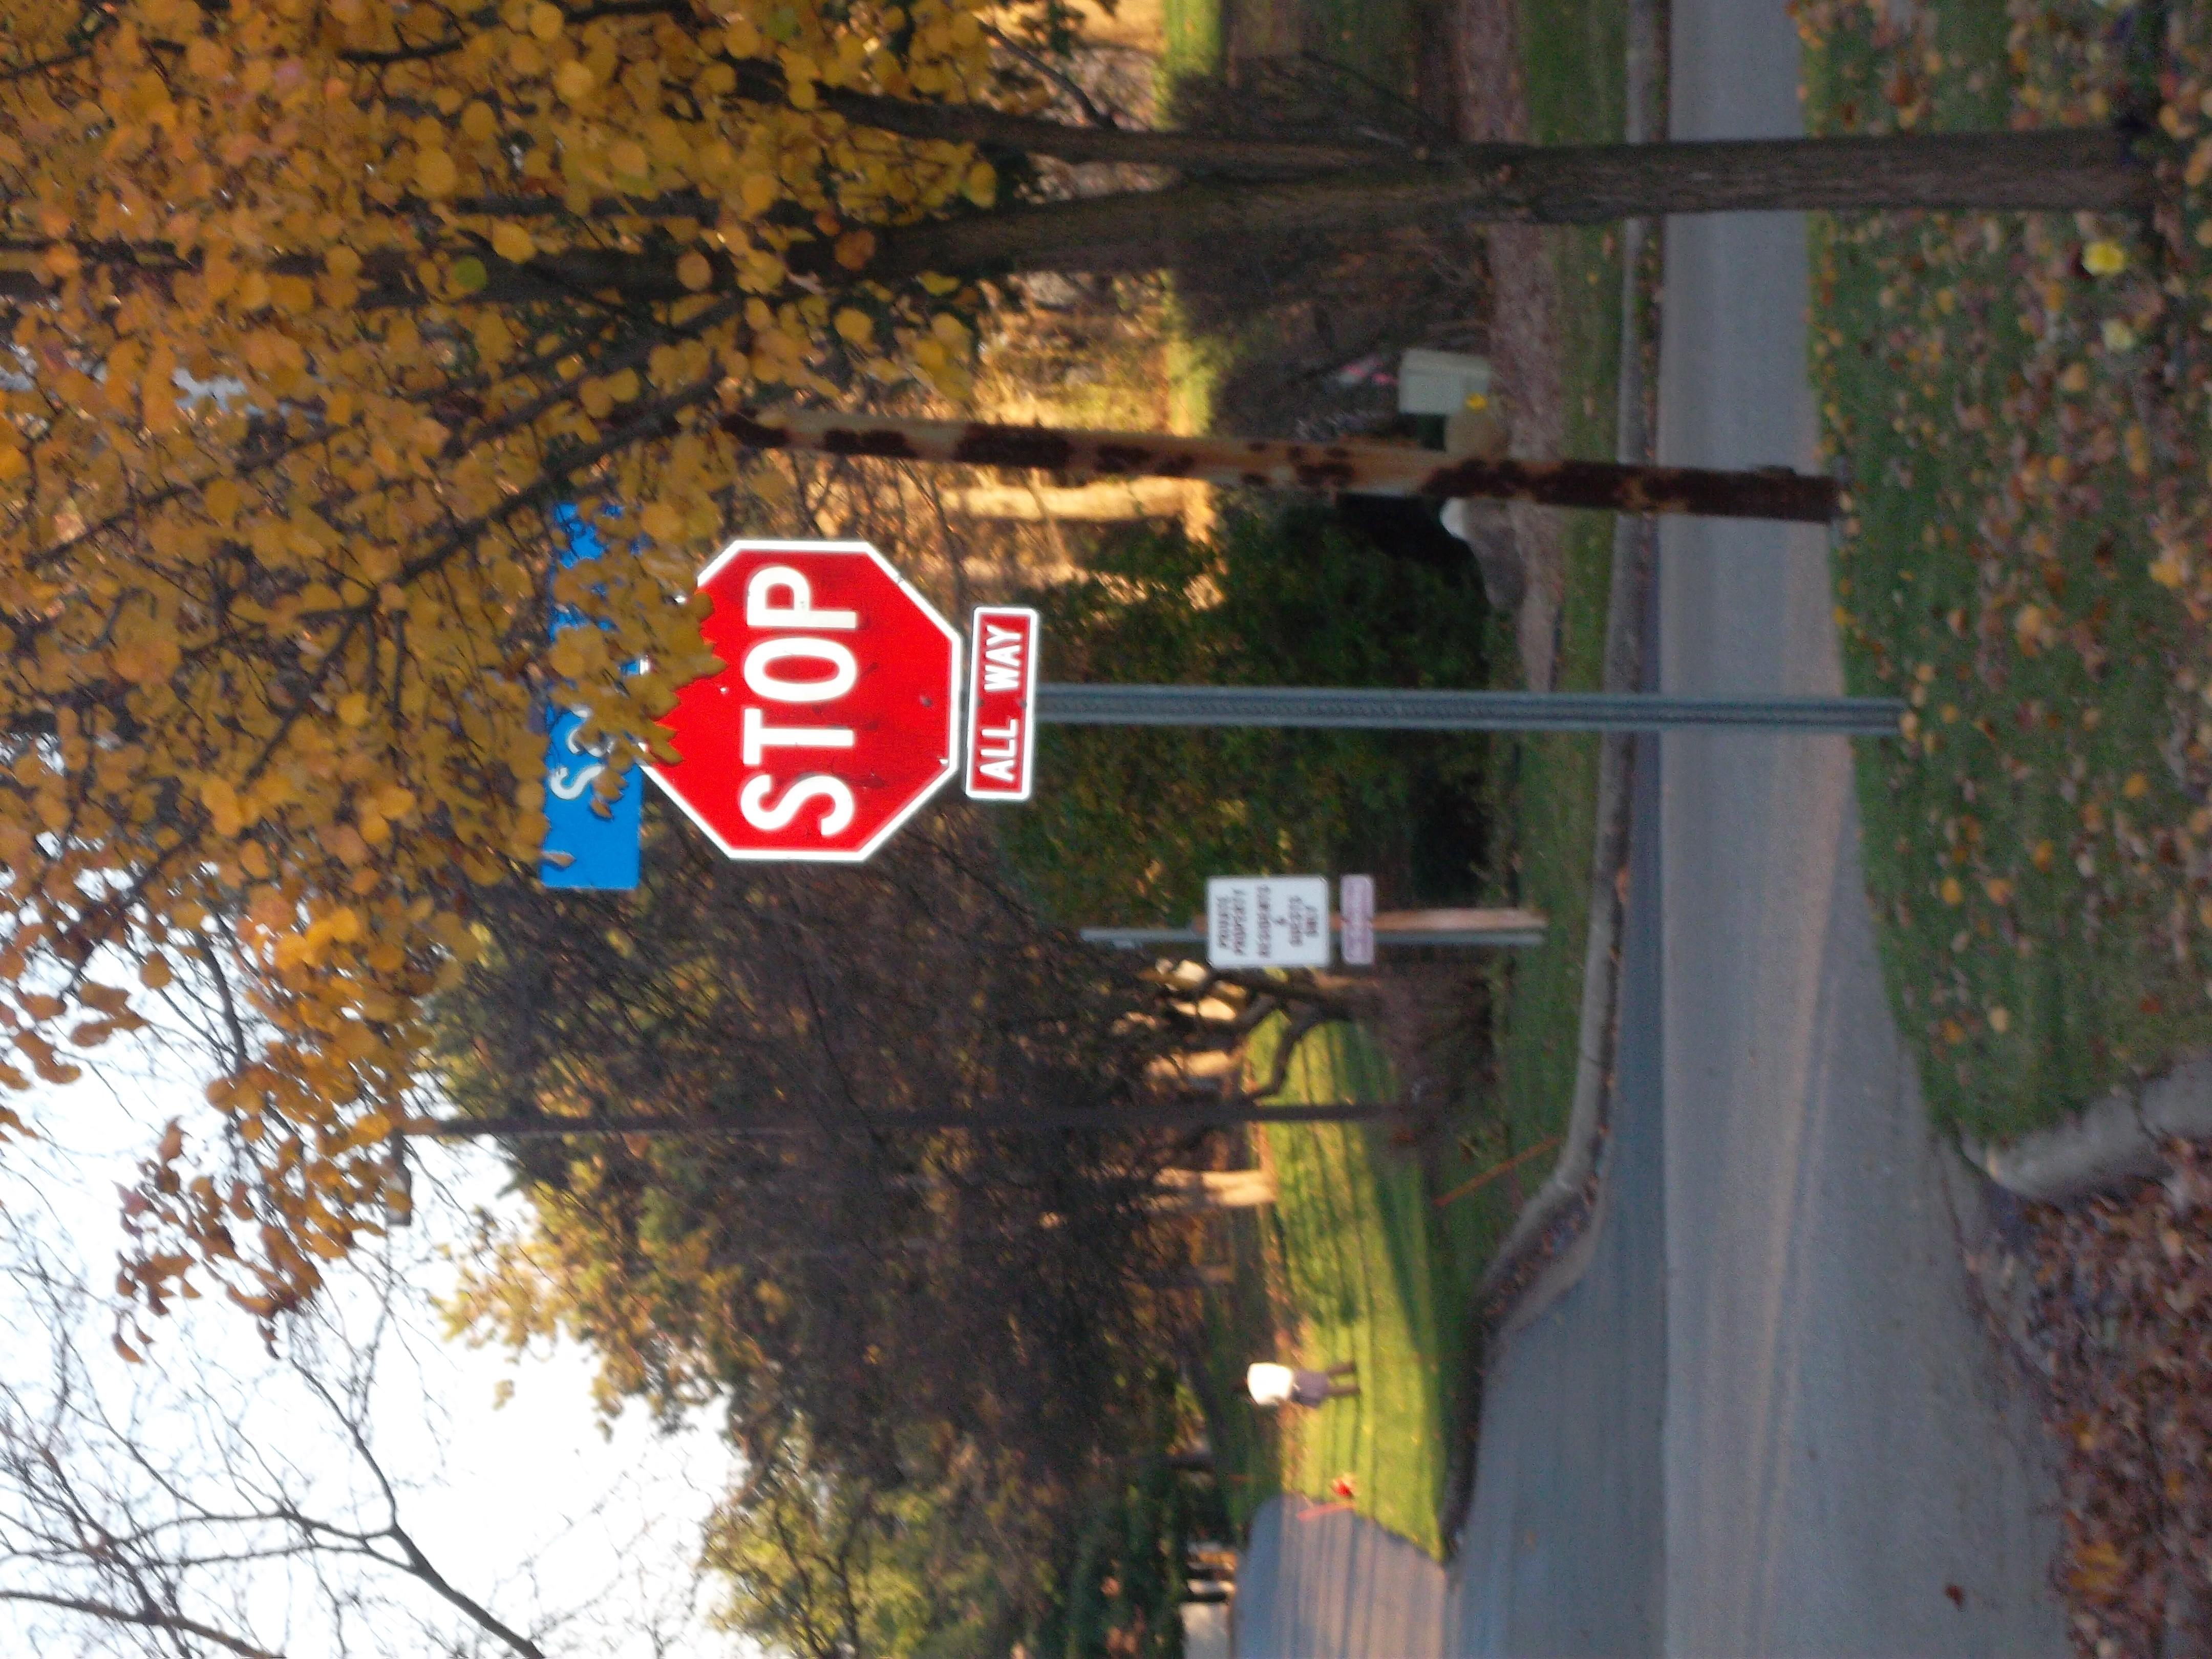stop: (632, 535, 961, 868)
